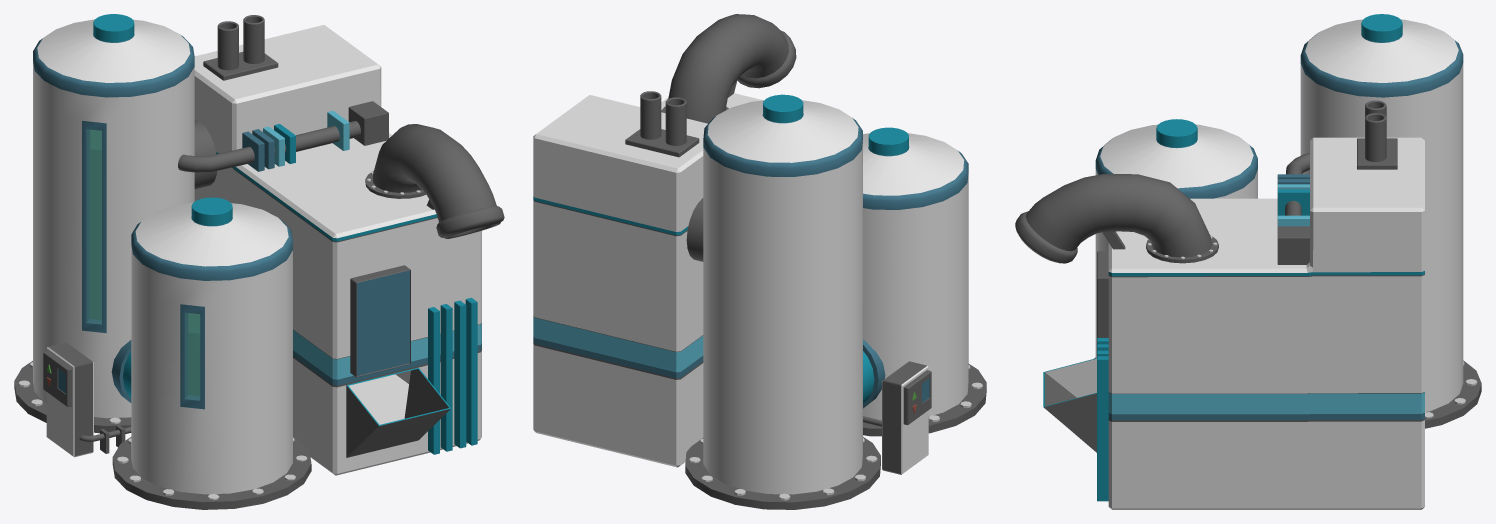
The model's file is CraftMachineGeo.fbx.
The picture shows the model from 3 angles, left to right: view 1: azimuth 30°, elevation 25°; view 2: azimuth 150°, elevation 25°; view 3: azimuth 270°, elevation 25°; orthographic projection.
Visible parts, largest first — view 1: CraftMachineGeo; view 2: CraftMachineGeo; view 3: CraftMachineGeo.
Part boxes in pixels (x1,y1,x2,y2): CraftMachineGeo: (14,14,504,509); CraftMachineGeo: (533,14,986,509); CraftMachineGeo: (1015,14,1481,509).
Size of the model in its own units: 695 by 750 by 845.
